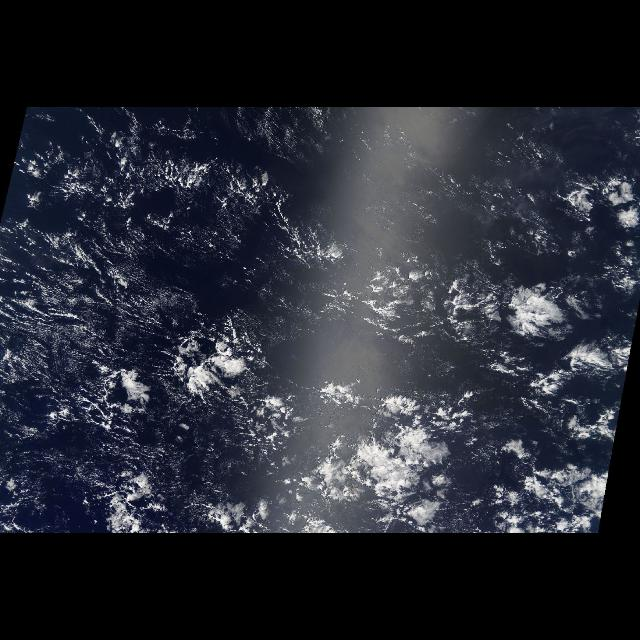Flower: (369, 248, 639, 532)
Gravel: (2, 122, 314, 340)
Sugar: (3, 206, 215, 504)
